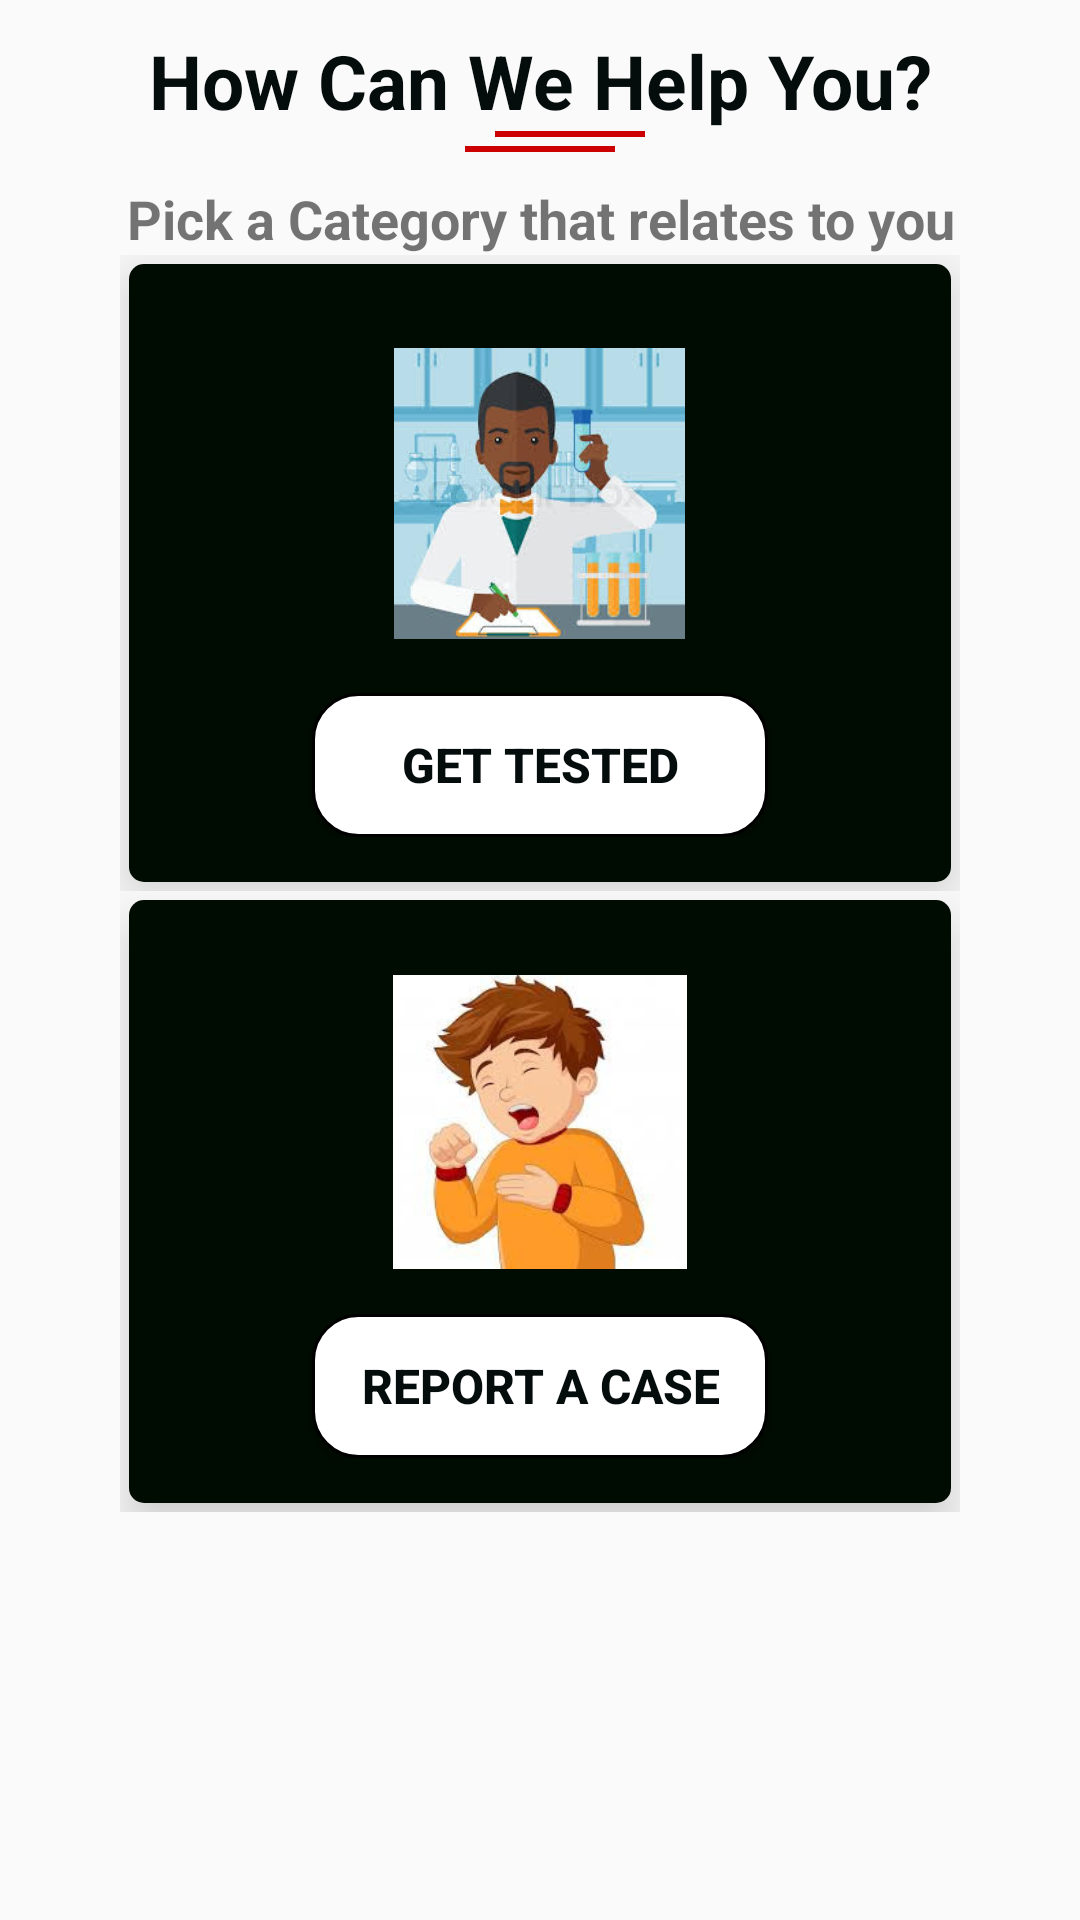

Where icons sit on this 1080*1920 app screen, as (x1, y1, x2, y2):
infected: (393, 975, 687, 1269)
